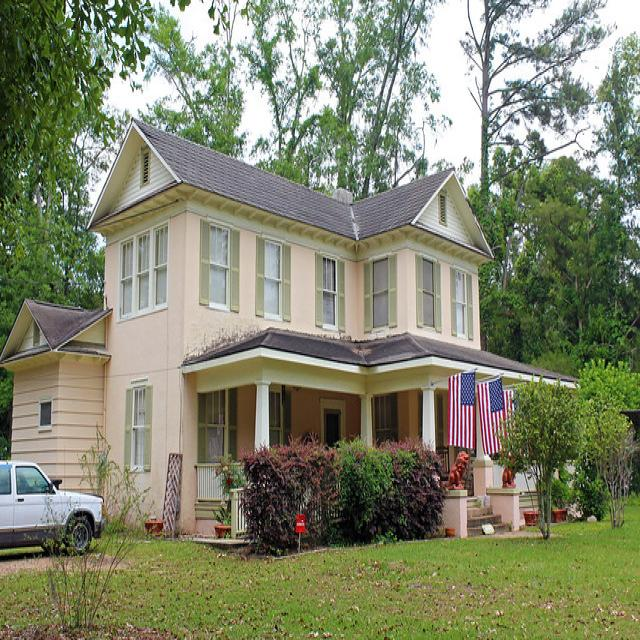building: (88, 111, 579, 538), (3, 294, 110, 526)
